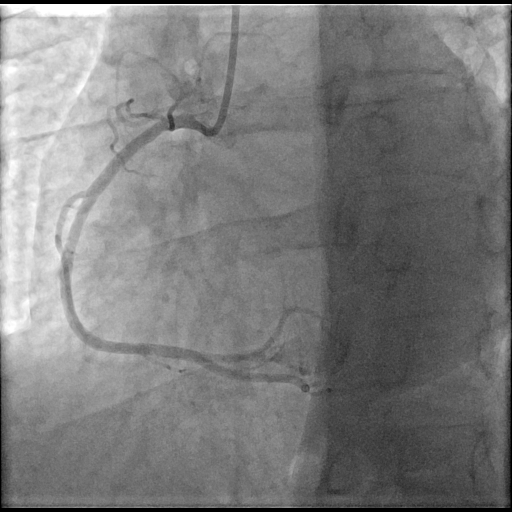RCA: (62, 117, 227, 364)
catherter: (212, 3, 241, 130)
